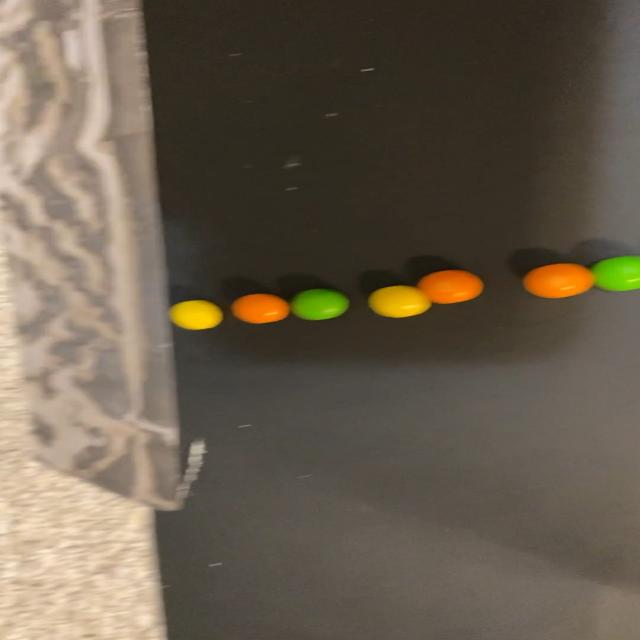smartie: (523, 263, 594, 298), (417, 270, 483, 304), (368, 285, 431, 318), (290, 289, 349, 320), (231, 294, 289, 324), (591, 256, 640, 291), (168, 300, 222, 330)
